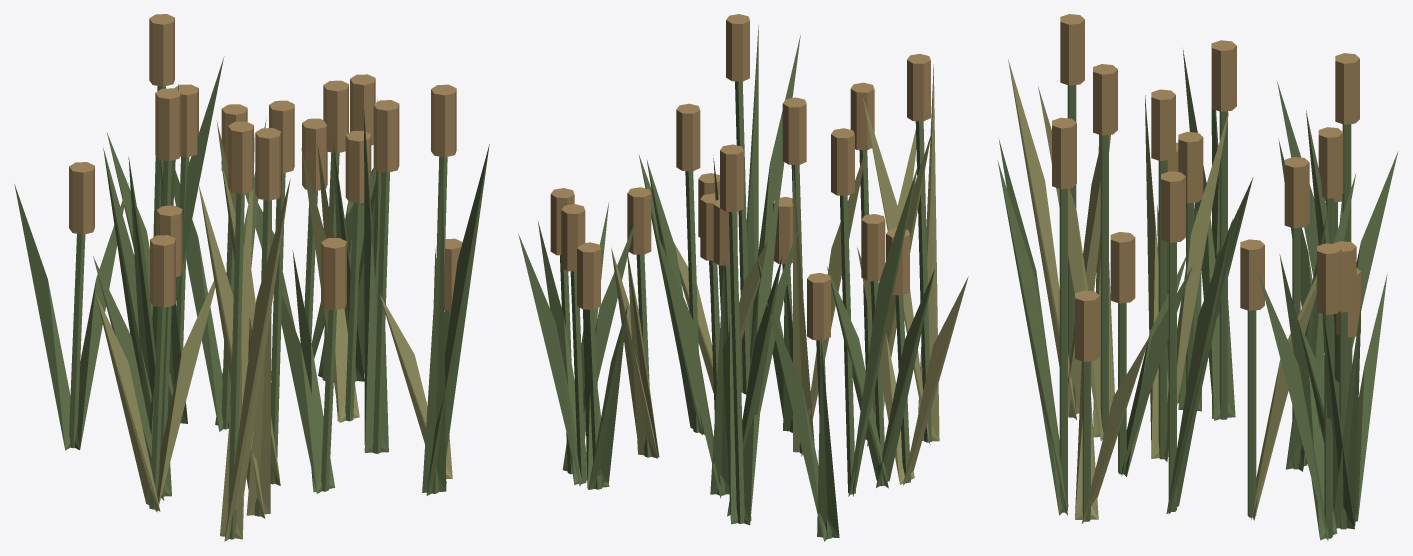
Rendered from reeds.glb.
3 renders of one model, left to right at view 1: azimuth 30°, elevation 25°; view 2: azimuth 150°, elevation 25°; view 3: azimuth 270°, elevation 25°, orthographic. The views are drawn at different scales.
Parts seen in each view (by area): view 1: Keep_Mesh; view 2: Keep_Mesh; view 3: Keep_Mesh.
Boxes of the visible parts, <box> form: Keep_Mesh: <box>14,14,489,541</box>; Keep_Mesh: <box>518,14,968,541</box>; Keep_Mesh: <box>997,14,1398,540</box>.
Bounding box in the file's own units: 1.17 × 1.19 × 1.08.
